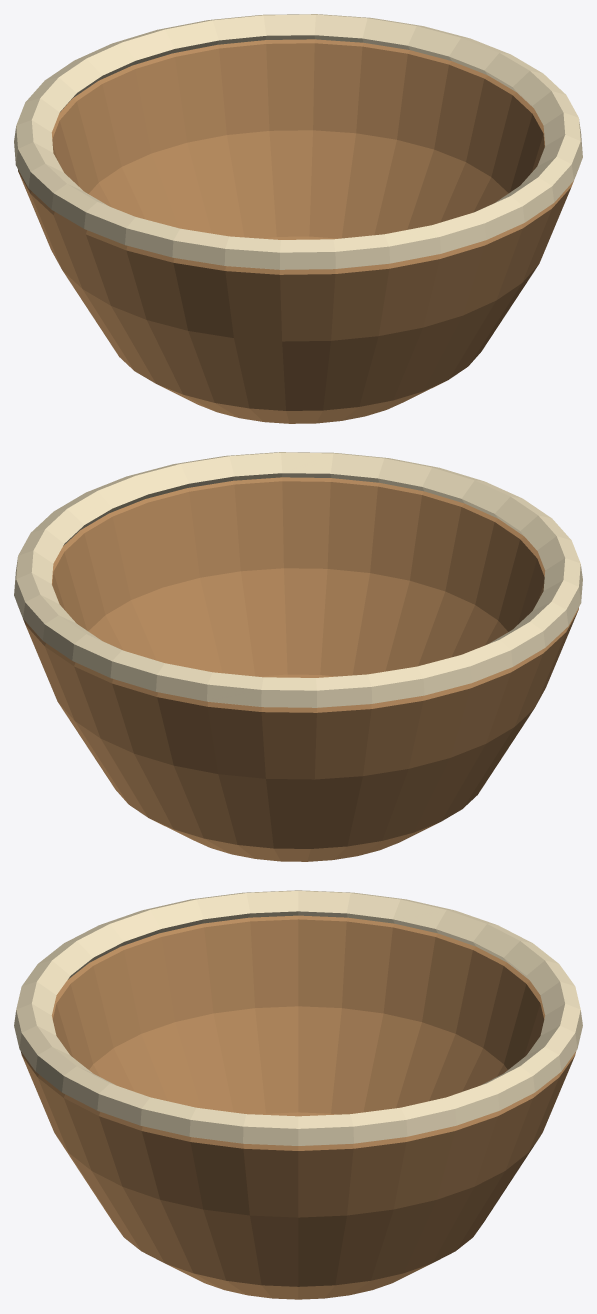
3 views of the same model, one above another, from view 1: azimuth 30°, elevation 25°; view 2: azimuth 150°, elevation 25°; view 3: azimuth 270°, elevation 25° (orthographic).
Visible parts, largest first — view 1: kitchen-mixing-bowl-01; view 2: kitchen-mixing-bowl-01; view 3: kitchen-mixing-bowl-01.
Boxes of the visible parts, x1=… form: kitchen-mixing-bowl-01: x1=14, y1=14, x2=582, y2=423; kitchen-mixing-bowl-01: x1=14, y1=452, x2=582, y2=861; kitchen-mixing-bowl-01: x1=14, y1=890, x2=582, y2=1299.
Size of the model in its own units: 0.256 by 0.119 by 0.256.
